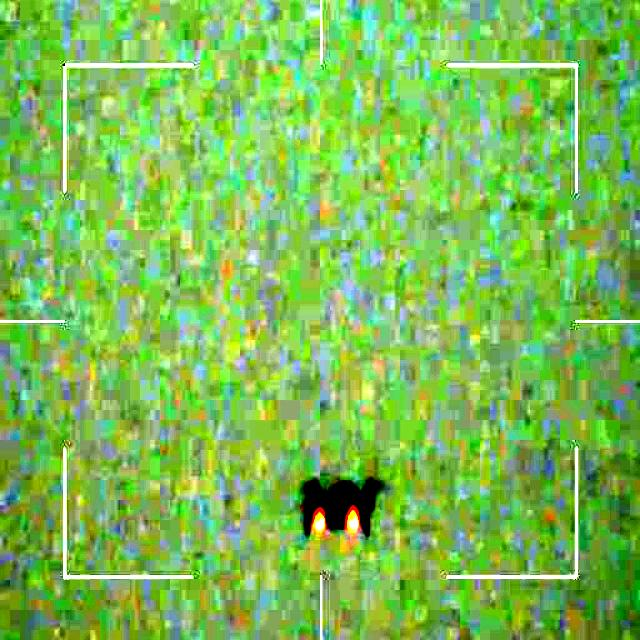bird: (299, 474, 384, 538)
